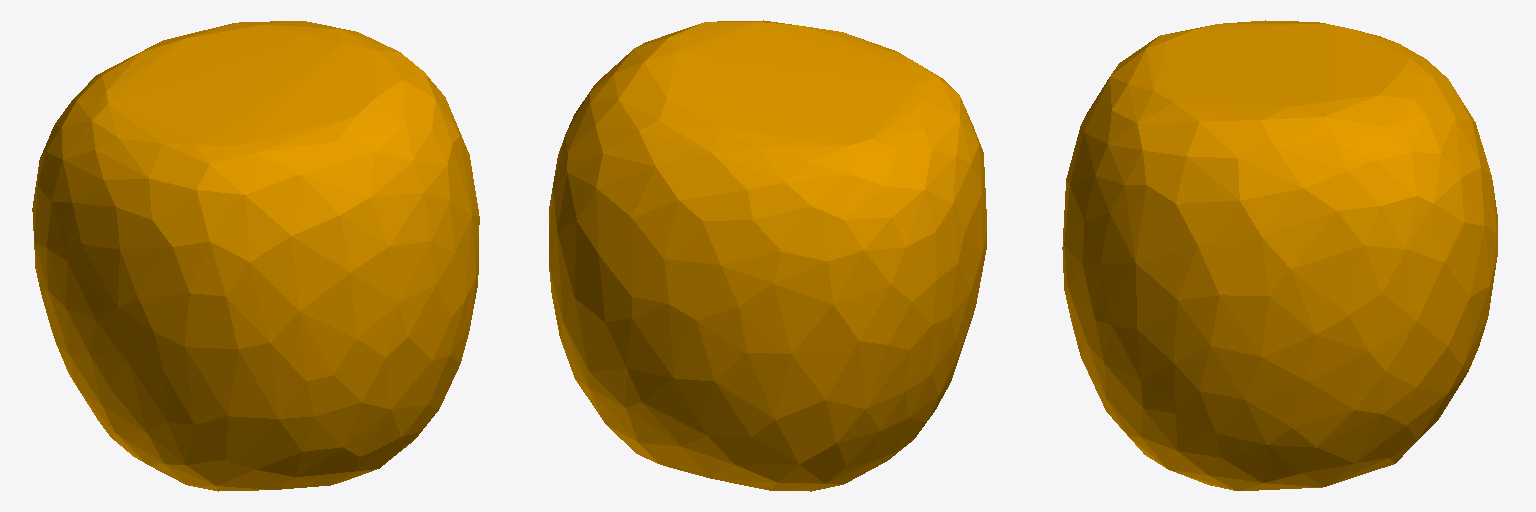
robot.urdf — 013_apple:
<?xml version="1.0" encoding="UTF-8"?>
<robot name="013_apple">
	<link name="base">
		<collision>
			<geometry>
				<mesh filename="..\vhacd\013_apple_vhacd.obj" scale="1.0 1.0 1.0"/>
			</geometry>
			<origin xyz="0 0 0"/>
			<contact_coefficients mu="0.24" />
		</collision>
		<visual>
			<geometry>
				<mesh filename="..\vhacd\013_apple_vhacd.obj" scale="1.0 1.0 1.0"/>
			</geometry>
			<origin xyz="0 0 0"/>
		</visual>
		<inertial>
			<mass value="0"/>
			<inertia ixx="0.0" ixy="0.0" ixz="0.0" iyy="0.0" iyz="-0.0" izz="0.0" />
			<origin xyz="0.001310580188216054 -0.0038612426613233728 0.03633673268345595"/>
		</inertial>
	</link>
</robot>

--- What the picture shows (computed from the rendered views, not written in the file) ---
The picture shows the robot from 3 angles, left to right: view 1: azimuth 30°, elevation 25°; view 2: azimuth 150°, elevation 25°; view 3: azimuth 270°, elevation 25°; orthographic projection.
Model 013_apple with 1 links and 0 joints (none), rooted at base, posed all joints at 0.
Links seen in each view (by area): view 1: base; view 2: base; view 3: base.
Link boxes in pixels (x1=…): base: x1=32, y1=21, x2=479, y2=491; base: x1=549, y1=20, x2=986, y2=491; base: x1=1062, y1=20, x2=1497, y2=490.
Bounding box of the posed robot: 0.0758 × 0.0751 × 0.0723 m (x, y, z).
1 mesh visuals loaded from 1 distinct referenced files (1 OBJ).